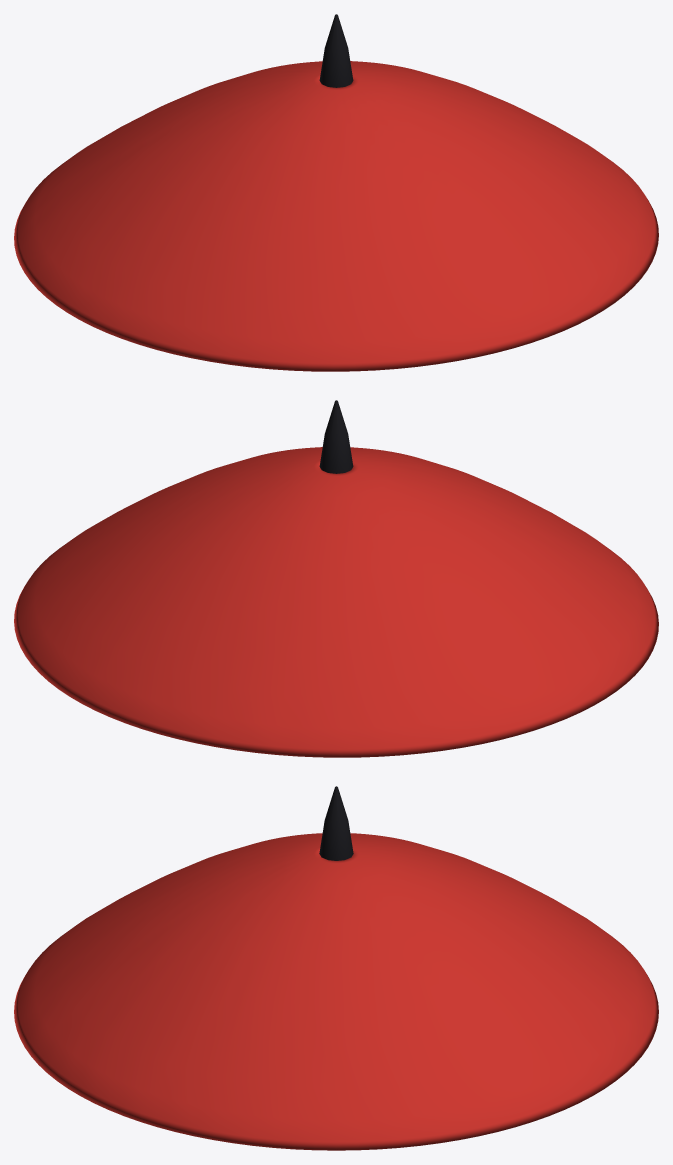
Rendered from hw_salakot.glb.
3 views of the same model, one above another, from view 1: azimuth 30°, elevation 25°; view 2: azimuth 150°, elevation 25°; view 3: azimuth 270°, elevation 25° (orthographic).
Parts seen in each view (by area): view 1: hw_salakot, hw_salakot_spike; view 2: hw_salakot, hw_salakot_spike; view 3: hw_salakot, hw_salakot_spike.
Part boxes in pixels (x1,y1,x2,y2): hw_salakot: (14,61,658,371); hw_salakot_spike: (319,14,353,87); hw_salakot: (14,447,658,757); hw_salakot_spike: (319,400,353,473); hw_salakot: (14,833,658,1150); hw_salakot_spike: (319,786,353,860).
Bounding box in the file's own units: 1.11 × 0.4202 × 1.09.
